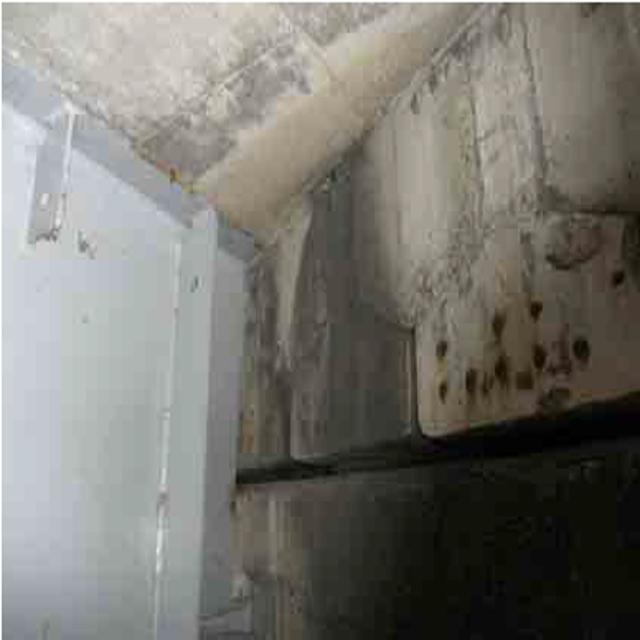leakage: (287, 134, 383, 476)
